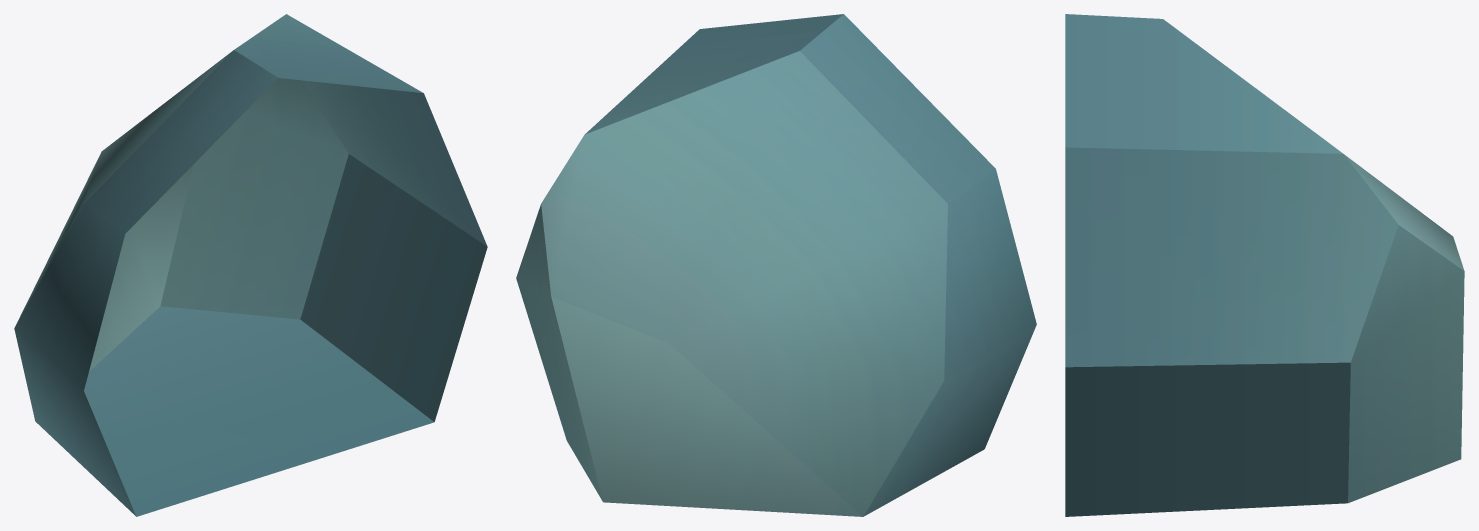
File: Ruin 07.FBX
The picture shows the model from 3 angles, left to right: view 1: azimuth 30°, elevation 25°; view 2: azimuth 150°, elevation 25°; view 3: azimuth 270°, elevation 25°; orthographic projection. The views are drawn at different scales.
Parts seen in each view (by area): view 1: Ruin 07; view 2: Ruin 07; view 3: Ruin 07.
Part boxes in pixels (x1,y1,x2,y2): Ruin 07: [14, 14, 487, 516]; Ruin 07: [516, 14, 1036, 516]; Ruin 07: [1065, 14, 1464, 516].
Size of the model in its own units: 97.42 by 93.23 by 76.06.
1 material, 1 textured.
